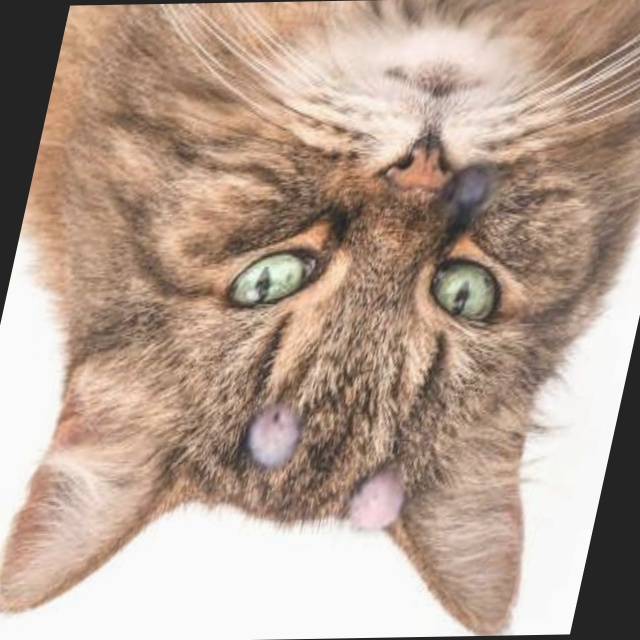lump_and_bump: (343, 463, 411, 535), (246, 399, 302, 469), (443, 167, 490, 208)
